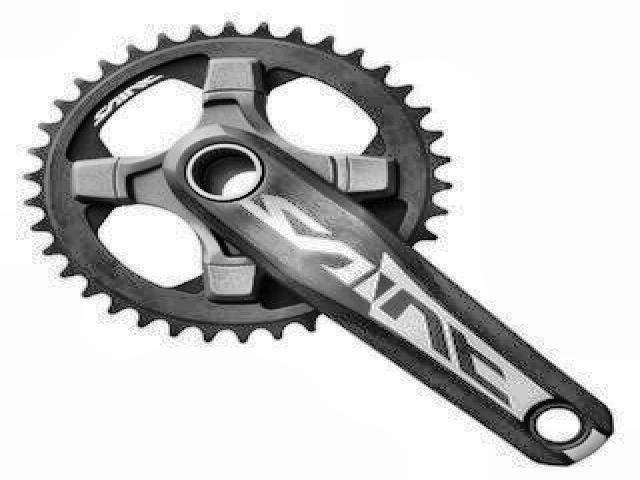cranks_set: (19, 20, 615, 467)
